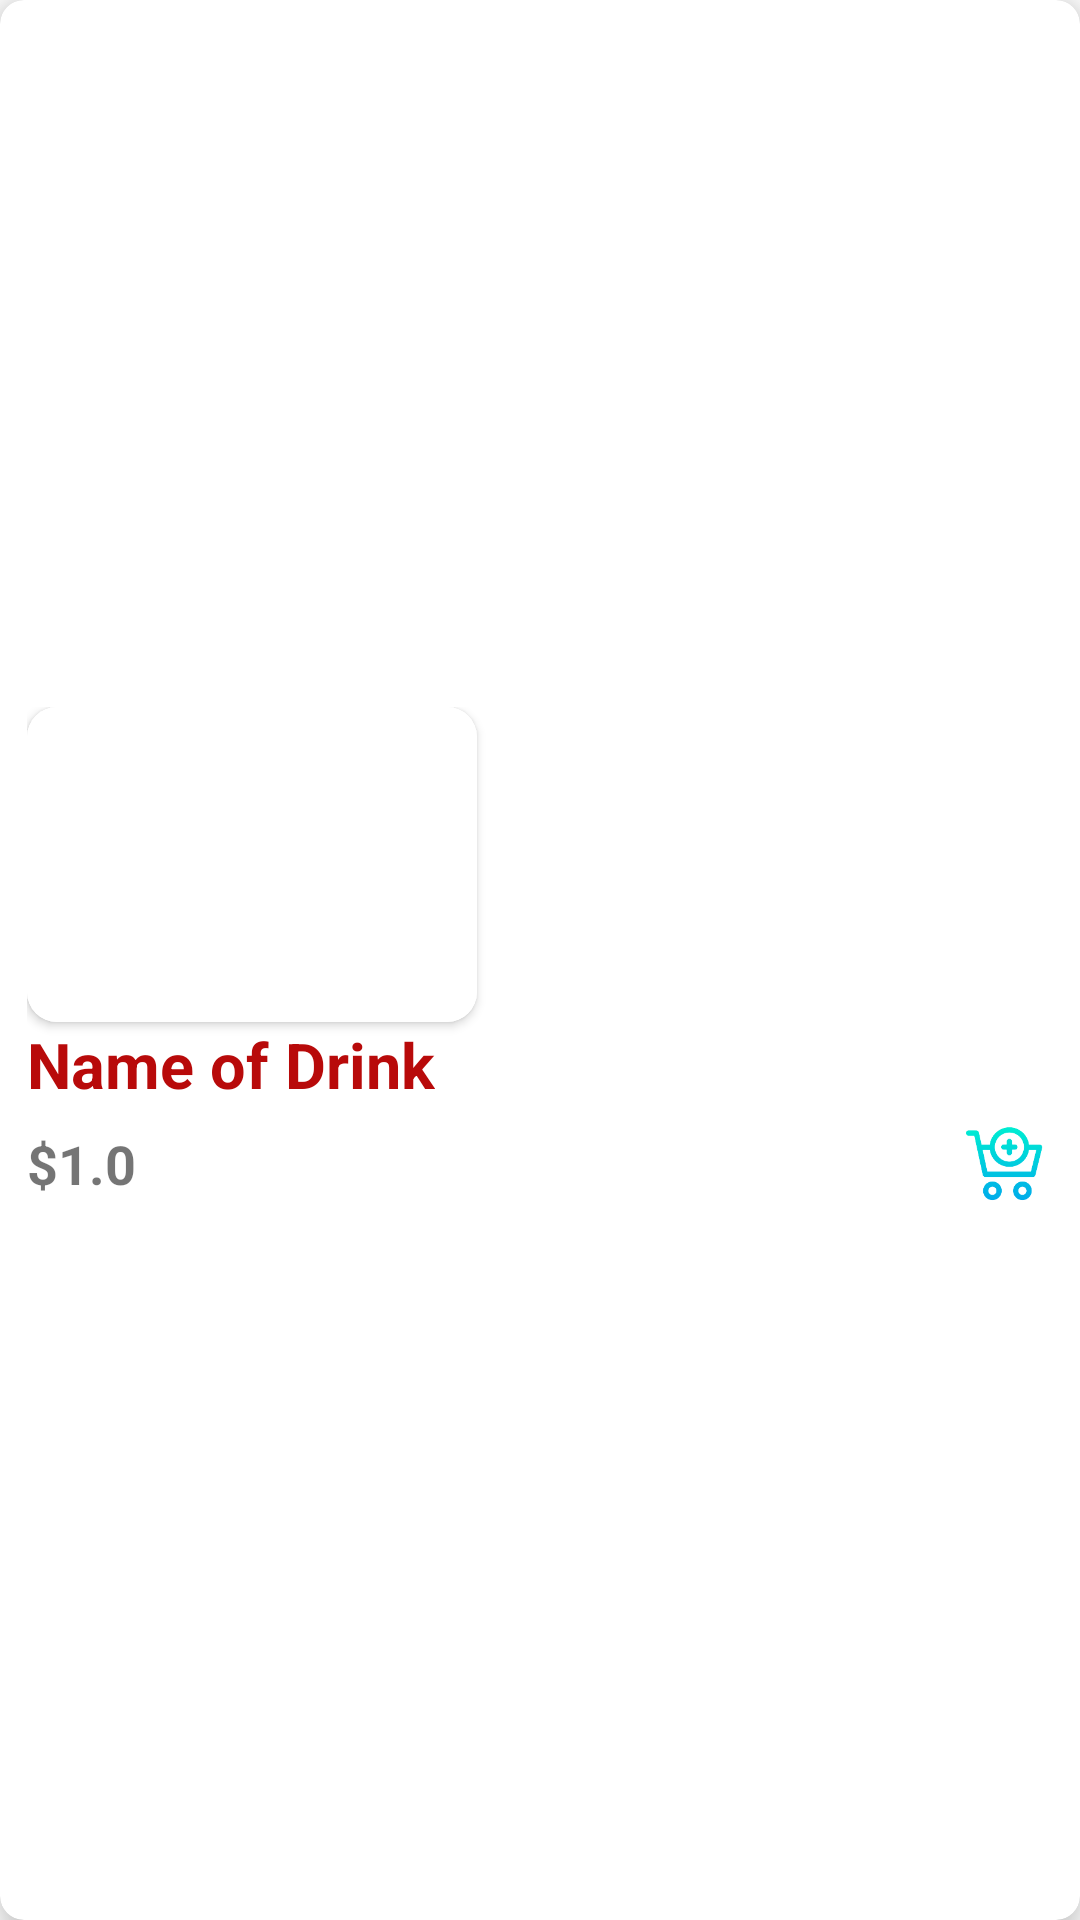

Icon click points for this 1080*1920 phone screenshot, format (x,y):
addtocart: (1004,1163)
